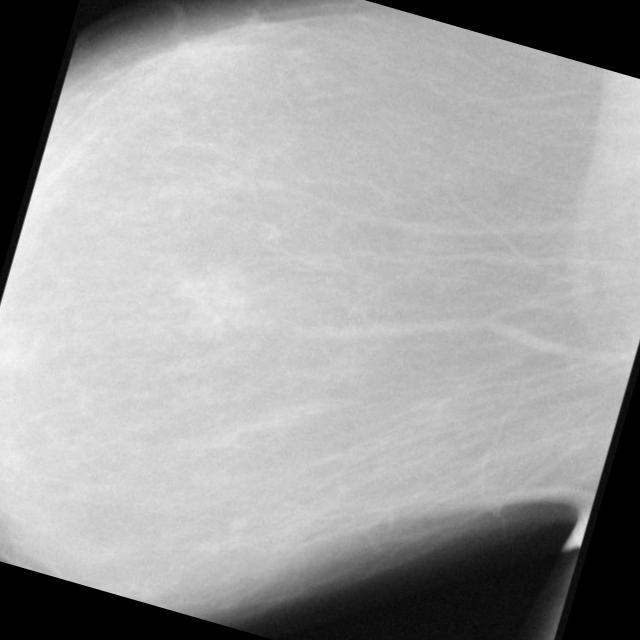ARCH: (180, 270, 254, 344)
